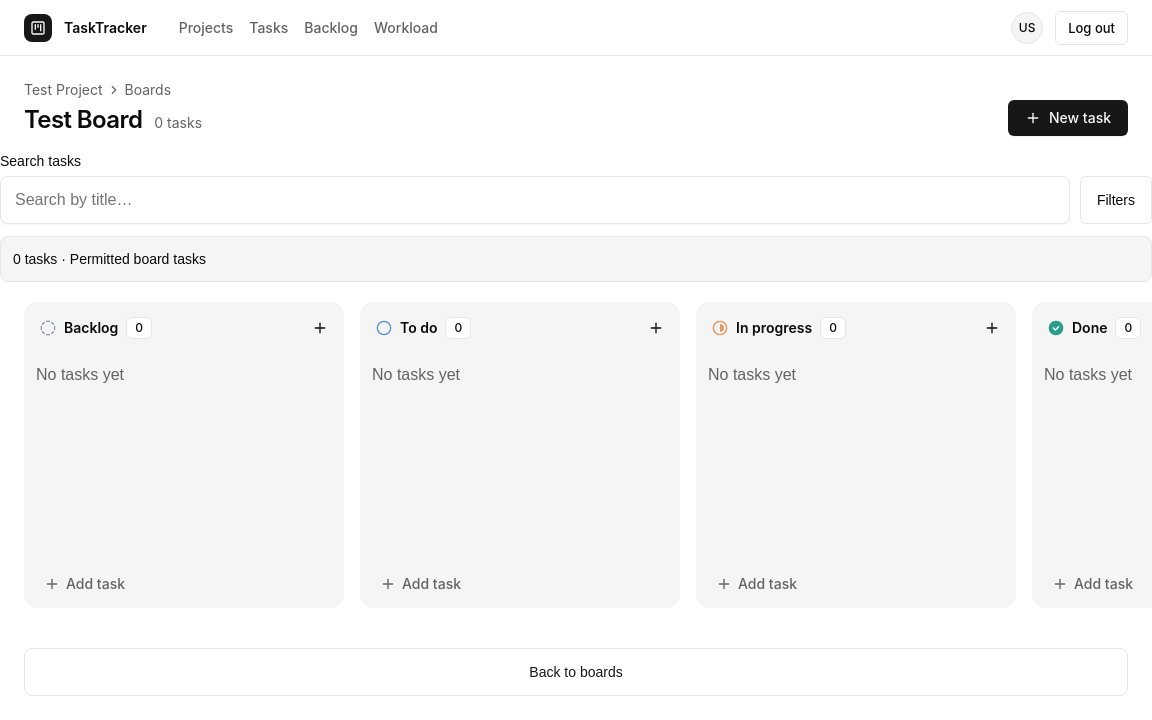
Board & Task acceptance tests › shows server error and keeps typed values when server rejects task
This screenshot has width=1152, height=720.
Click the button with test id "create-task-btn".
click(1068, 118)  # box x1=1008 y1=100 x2=1128 y2=136
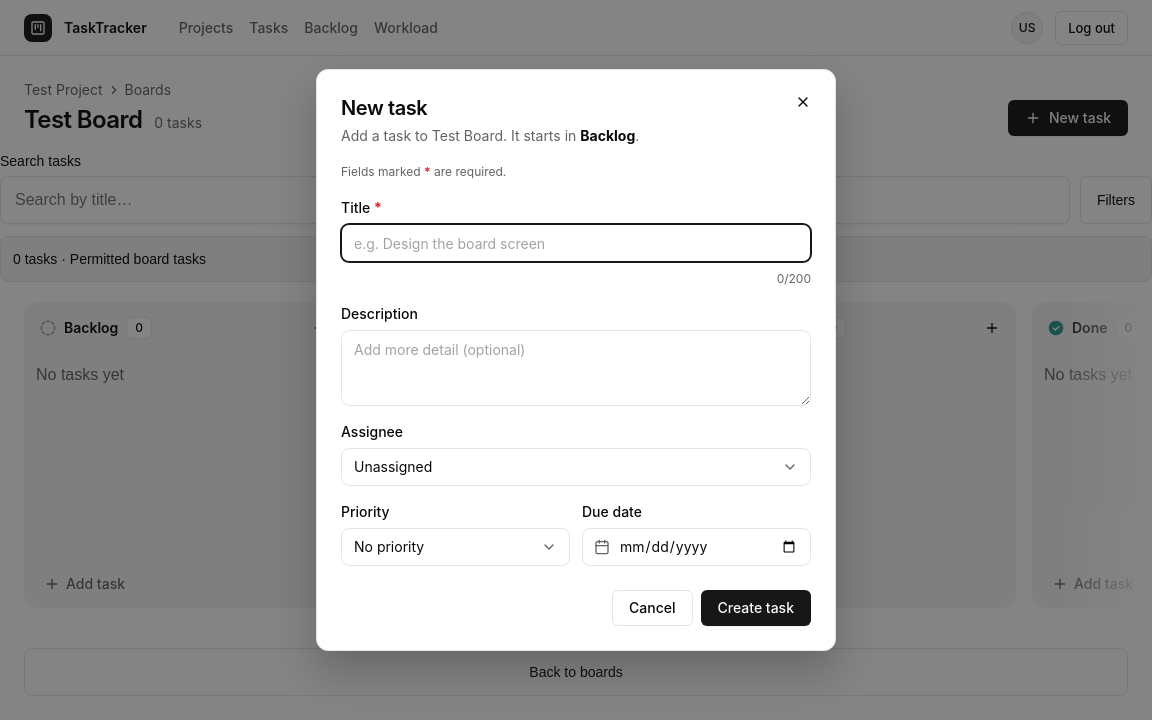
Type "Rejected task" into the field labelled "Title *".
click(576, 243); type("Rejected task")  # box x1=341 y1=224 x2=811 y2=262
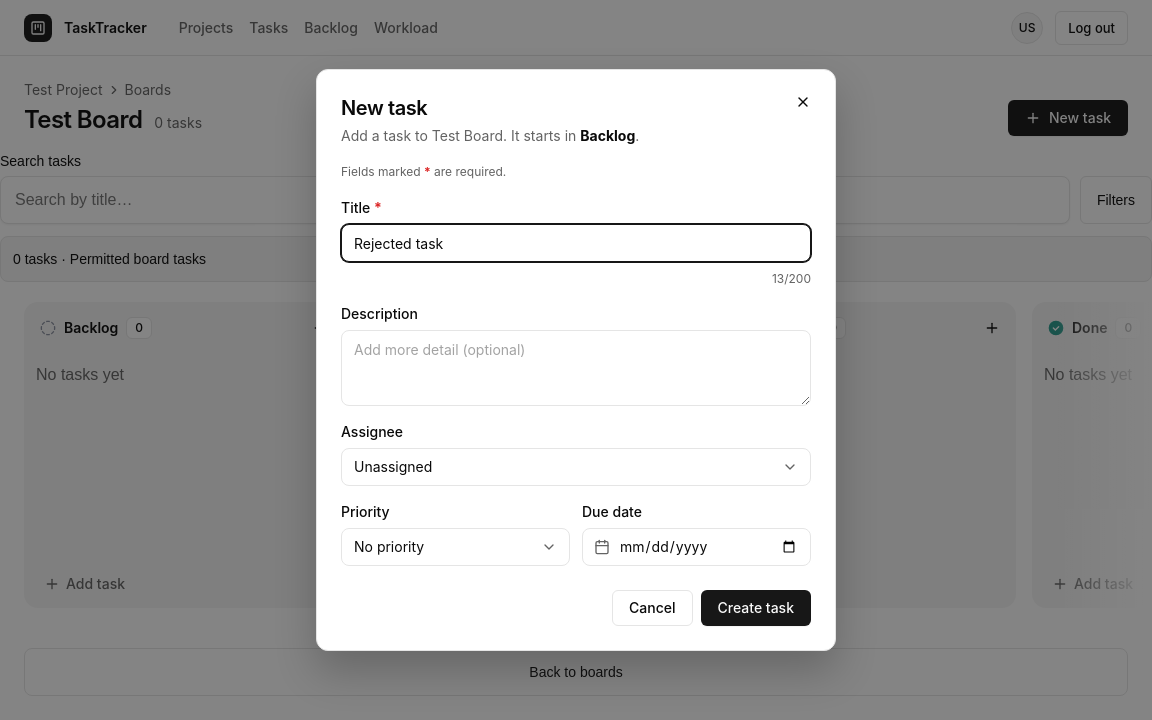
Click the button "Create task".
click(756, 608)  # box x1=700 y1=590 x2=811 y2=626
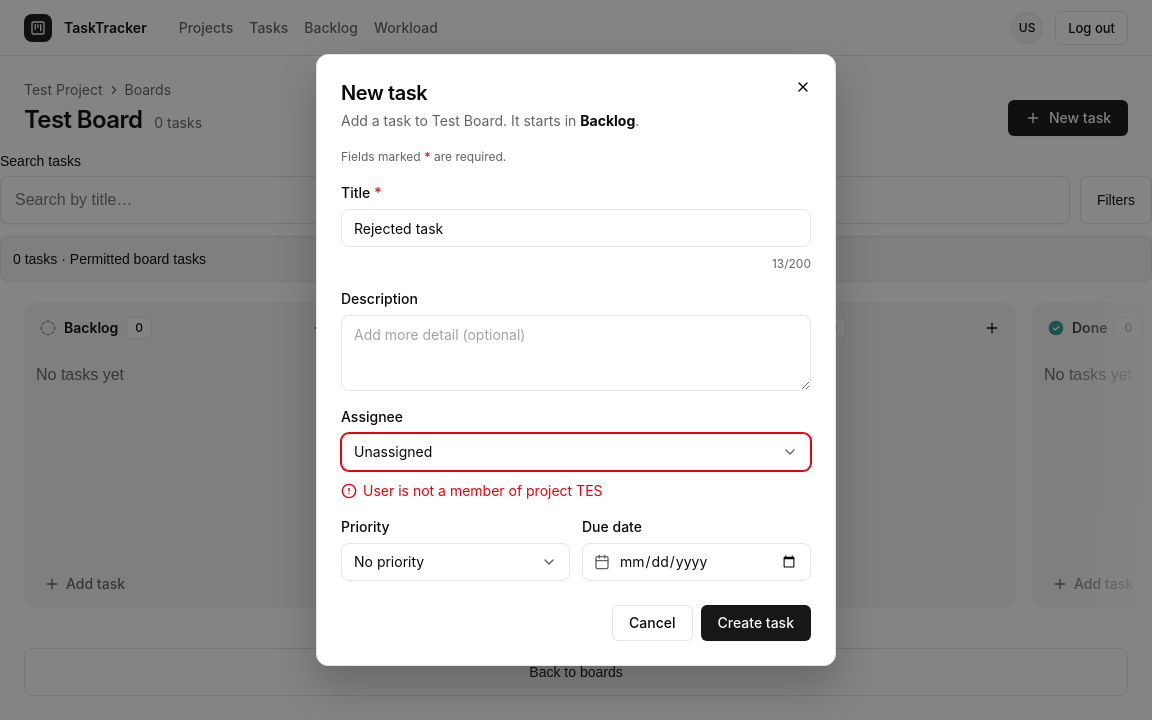
Expected: the text "User is not a member of project TES" is shown, x1=363 y1=481 x2=602 y2=501
